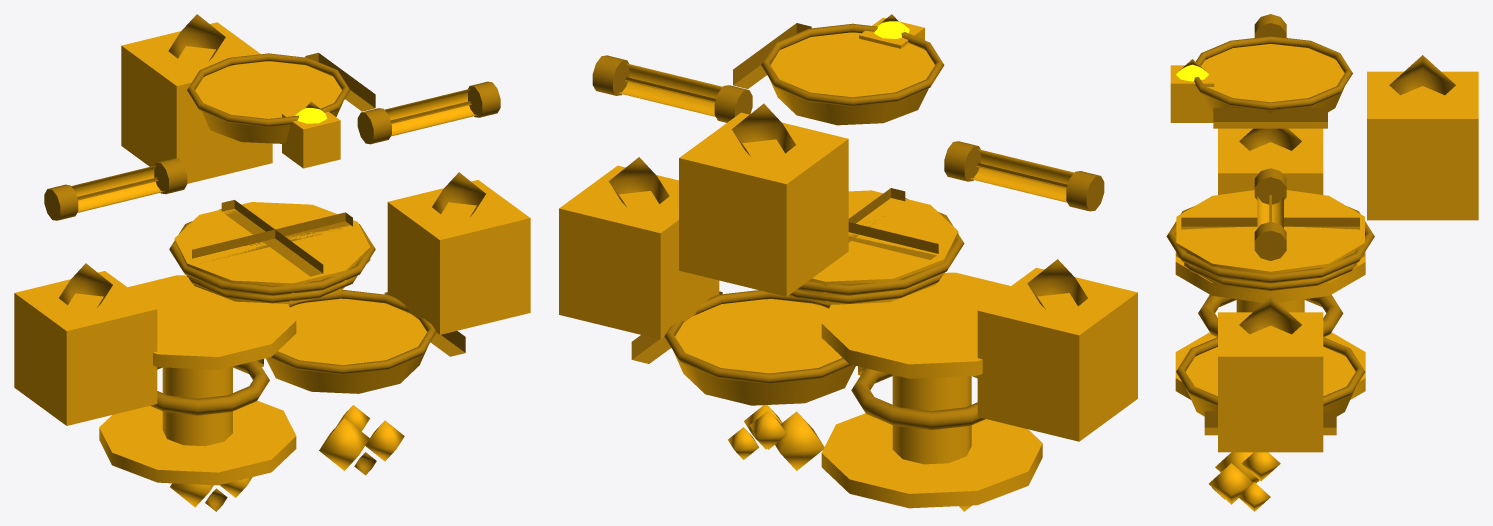
The model's file is golem_023.glb.
3 renders of one model, left to right at view 1: azimuth 30°, elevation 25°; view 2: azimuth 150°, elevation 25°; view 3: azimuth 270°, elevation 25°, orthographic. The views are drawn at different scales.
Visible parts, largest first — view 1: Body, Detail; view 2: Body, Detail; view 3: Body, Detail, Glow.
Boxes of the visible parts, box(x1,y1,x2,y2) form: Body: box(14, 22, 530, 507); Detail: box(44, 14, 500, 511); Body: box(559, 17, 1137, 511); Detail: box(592, 14, 1104, 429); Body: box(1170, 44, 1478, 511); Detail: box(1166, 14, 1455, 499); Glow: box(1176, 64, 1208, 81).
Size of the model in its own units: 1.52 by 1.27 by 0.8767.
